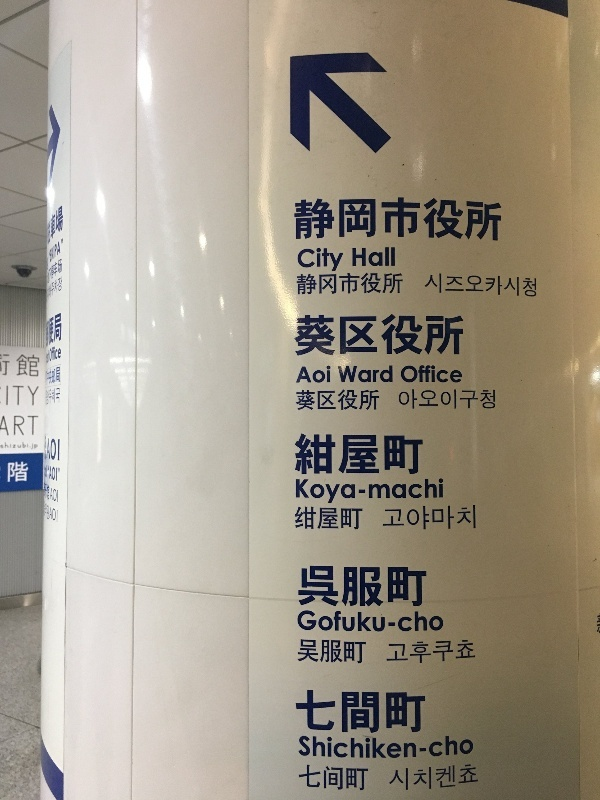text: (49, 204, 65, 249), (305, 688, 320, 735), (321, 688, 336, 735), (337, 688, 352, 735), (353, 688, 368, 735), (369, 688, 384, 735), (385, 688, 400, 735), (401, 688, 416, 735), (305, 197, 320, 243), (321, 197, 336, 243), (337, 197, 352, 243), (353, 197, 368, 243), (369, 197, 384, 243), (385, 197, 400, 243), (401, 197, 416, 243), (417, 197, 432, 243), (433, 197, 448, 243), (449, 197, 464, 243), (465, 197, 480, 243), (481, 197, 496, 243), (449, 314, 465, 356), (305, 314, 320, 356), (321, 314, 336, 356), (337, 314, 352, 356), (353, 314, 368, 356), (369, 314, 384, 356), (385, 314, 400, 356), (401, 314, 416, 356), (417, 314, 432, 356), (433, 314, 448, 356), (305, 433, 320, 475), (321, 433, 336, 475), (337, 433, 352, 475), (353, 433, 368, 475), (369, 433, 384, 475), (385, 433, 400, 475), (401, 433, 416, 475), (305, 566, 320, 608), (321, 566, 336, 608), (337, 566, 352, 608), (353, 566, 368, 608), (369, 566, 384, 608), (385, 566, 400, 608), (401, 566, 416, 608), (49, 237, 65, 271), (417, 688, 428, 735), (417, 566, 429, 608), (49, 313, 62, 351), (294, 688, 304, 735), (49, 254, 64, 285), (294, 197, 304, 243), (305, 476, 320, 505), (321, 476, 336, 505), (337, 476, 352, 505), (353, 476, 368, 505), (369, 476, 384, 505), (385, 476, 400, 505), (401, 476, 416, 505), (417, 476, 432, 505), (401, 763, 416, 792), (417, 763, 432, 792), (433, 763, 448, 792), (449, 763, 464, 792), (465, 763, 480, 792), (294, 314, 304, 356), (305, 766, 320, 794), (321, 766, 336, 794), (337, 766, 352, 794), (353, 766, 368, 794), (385, 636, 400, 664), (401, 636, 416, 664), (417, 636, 432, 664), (433, 636, 448, 664), (449, 636, 464, 664), (1, 352, 16, 379), (17, 352, 32, 379), (305, 246, 320, 273), (321, 246, 336, 273), (385, 504, 400, 531), (401, 504, 416, 531), (417, 504, 432, 531), (433, 504, 448, 531), (449, 504, 464, 531), (305, 640, 320, 666), (321, 640, 336, 666), (337, 640, 352, 666), (1, 384, 16, 409), (17, 384, 32, 409), (305, 271, 320, 296), (321, 271, 336, 296), (337, 271, 352, 296), (353, 271, 368, 296), (369, 271, 384, 296), (385, 271, 400, 296), (305, 507, 320, 532), (321, 507, 336, 532), (337, 507, 352, 532), (305, 610, 320, 635), (321, 610, 336, 635), (337, 610, 352, 635), (353, 610, 368, 635), (369, 610, 384, 635), (385, 610, 400, 635), (401, 610, 416, 635), (417, 610, 432, 635), (305, 738, 320, 763), (321, 738, 336, 763), (337, 738, 352, 763), (353, 738, 368, 763), (369, 738, 384, 763), (385, 738, 400, 763), (401, 738, 416, 763), (417, 738, 432, 763), (433, 738, 448, 763), (449, 738, 464, 763), (433, 274, 448, 299), (449, 274, 464, 299), (465, 274, 480, 299), (481, 274, 496, 299), (497, 274, 512, 299), (513, 274, 528, 299), (49, 277, 64, 302), (481, 390, 497, 413), (353, 640, 367, 666), (305, 389, 320, 412), (321, 389, 336, 412), (337, 389, 352, 412), (353, 389, 368, 412), (401, 362, 416, 385), (417, 362, 432, 385), (433, 362, 448, 385), (401, 390, 416, 413), (417, 390, 432, 413), (433, 390, 448, 413), (449, 390, 464, 413), (465, 390, 480, 413), (296, 433, 304, 475), (417, 433, 425, 475), (465, 636, 477, 664), (1, 415, 16, 437), (17, 415, 32, 437), (465, 504, 477, 531), (497, 197, 504, 243), (449, 362, 463, 385), (433, 476, 444, 505), (353, 247, 368, 268), (369, 247, 384, 268), (49, 436, 61, 461), (433, 610, 445, 635), (49, 365, 62, 388), (297, 566, 304, 608), (390, 763, 400, 792), (49, 343, 62, 365), (305, 365, 320, 384), (353, 364, 368, 383), (369, 364, 384, 383), (17, 461, 29, 484), (338, 364, 352, 383), (295, 476, 304, 505), (369, 389, 380, 412), (294, 507, 304, 532), (353, 507, 363, 532), (385, 247, 396, 268), (49, 388, 61, 407), (465, 738, 474, 763), (529, 274, 538, 299), (33, 352, 41, 379), (337, 246, 345, 273), (295, 389, 304, 412), (33, 384, 41, 409), (321, 365, 331, 384), (49, 465, 60, 482), (8, 461, 16, 484), (297, 640, 304, 666), (49, 484, 58, 504), (49, 503, 58, 523), (297, 271, 304, 296), (297, 610, 304, 635), (295, 365, 304, 384), (385, 364, 394, 383), (298, 246, 304, 273), (33, 415, 40, 437), (426, 274, 432, 299), (1, 442, 16, 451), (17, 442, 32, 451), (299, 738, 304, 763), (300, 766, 304, 794), (44, 436, 48, 461), (46, 204, 48, 249), (44, 484, 48, 504), (44, 503, 48, 523), (46, 313, 48, 351), (45, 365, 48, 388), (46, 254, 48, 285), (45, 388, 48, 407), (45, 465, 48, 482), (401, 271, 403, 296), (33, 442, 38, 451), (47, 237, 48, 271), (369, 766, 370, 794), (383, 504, 384, 531), (47, 277, 48, 302), (399, 390, 400, 413), (47, 343, 48, 365), (351, 247, 352, 268)
